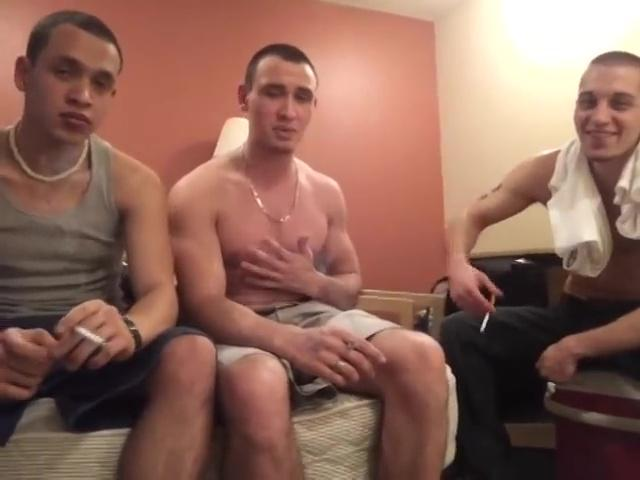cigarette: (70, 323, 110, 352), (479, 292, 500, 333)
